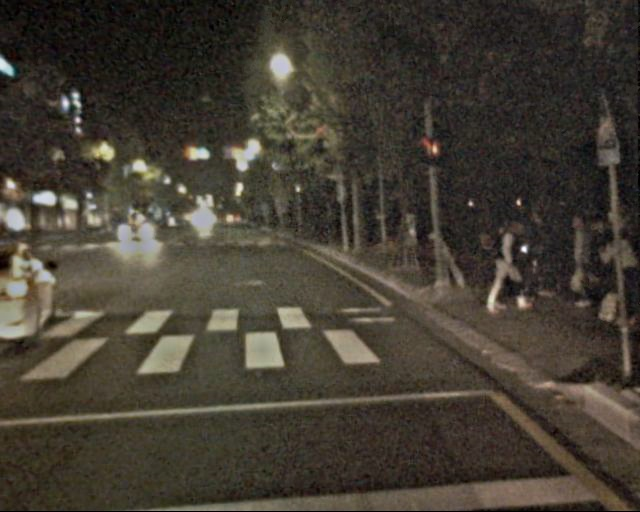person: (506, 209, 561, 295), (600, 225, 640, 331), (489, 219, 528, 315), (565, 216, 604, 311)
